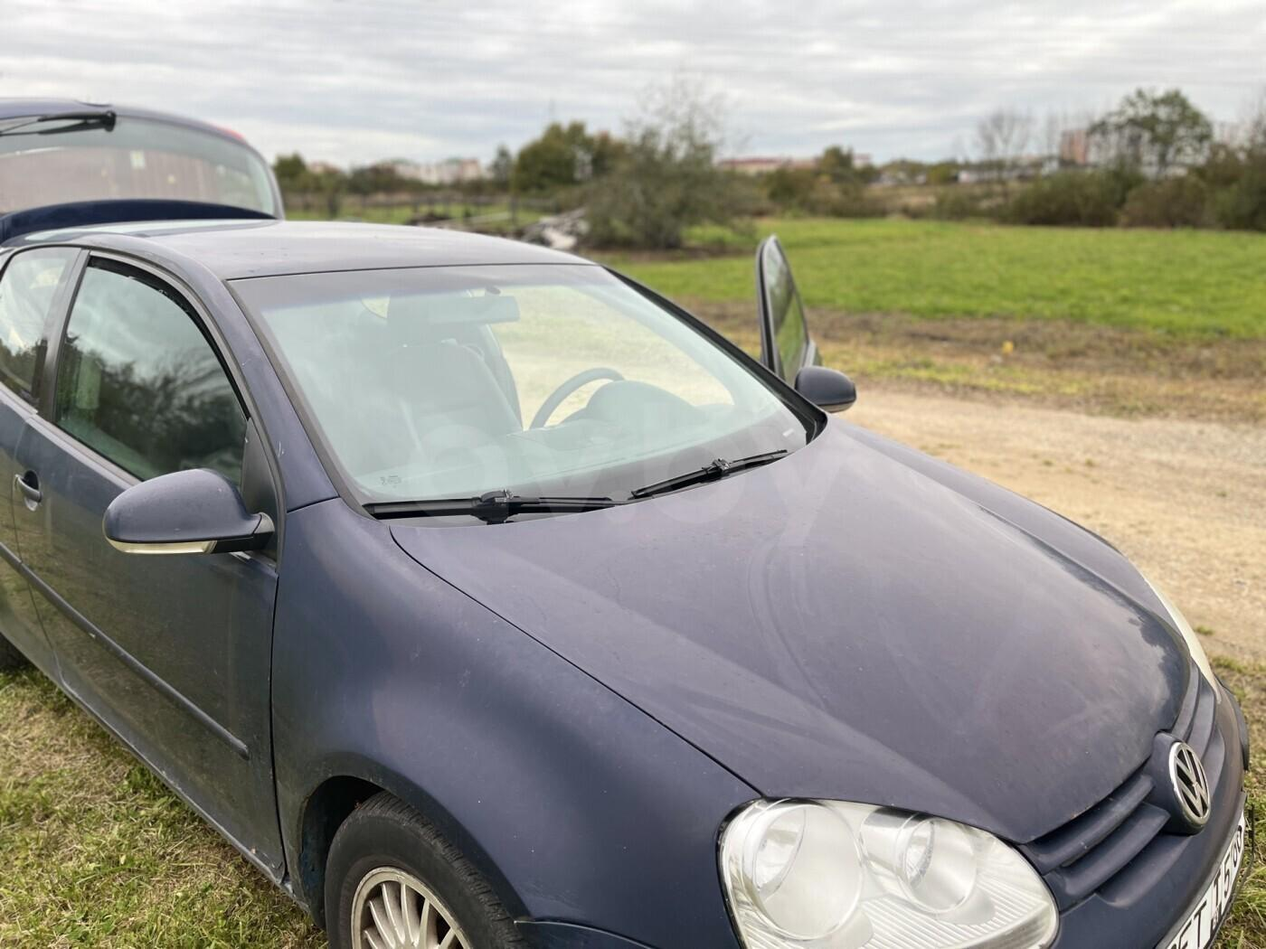Golf_2003-2009: (0, 206, 1266, 949)
